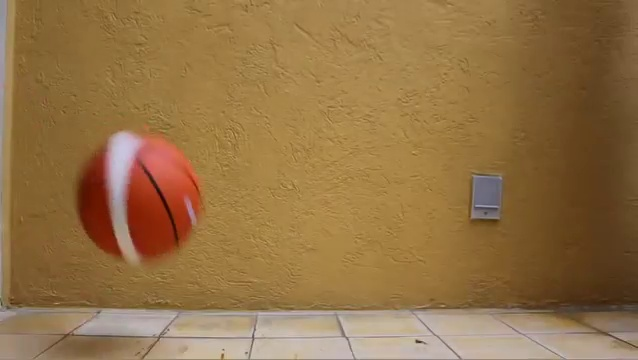ball: (72, 126, 205, 264)
